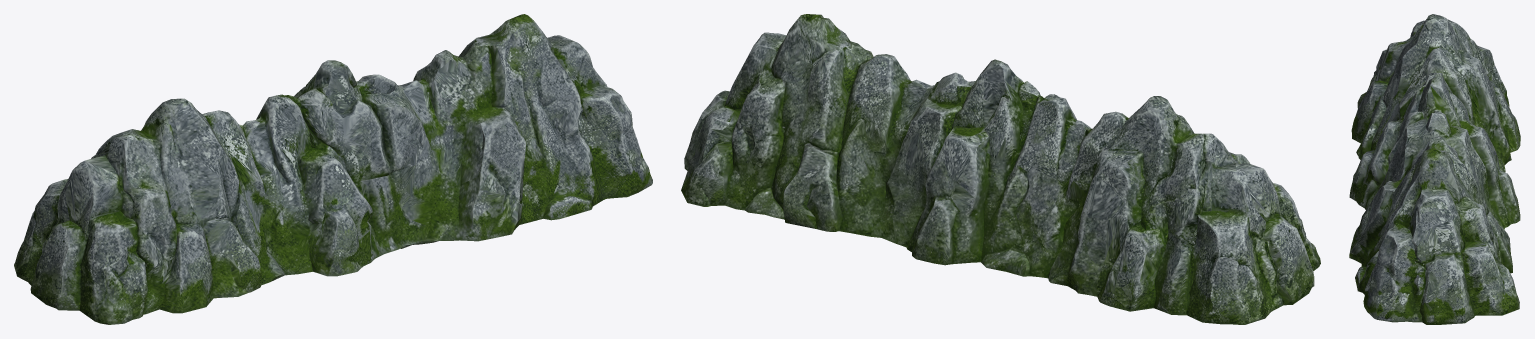
3 views of the same model, side by side, from view 1: azimuth 30°, elevation 25°; view 2: azimuth 150°, elevation 25°; view 3: azimuth 270°, elevation 25° (orthographic). The views are drawn at different scales.
Visible parts, largest first — view 1: mountain_ridge; view 2: mountain_ridge; view 3: mountain_ridge.
Boxes of the visible parts, x1,y1,x2,y2 form: mountain_ridge: [14, 14, 652, 324]; mountain_ridge: [681, 14, 1320, 324]; mountain_ridge: [1349, 14, 1520, 324].
Bounding box in the file's own units: 0.9792 × 0.2617 × 0.3056.
1 material, 1 textured.
